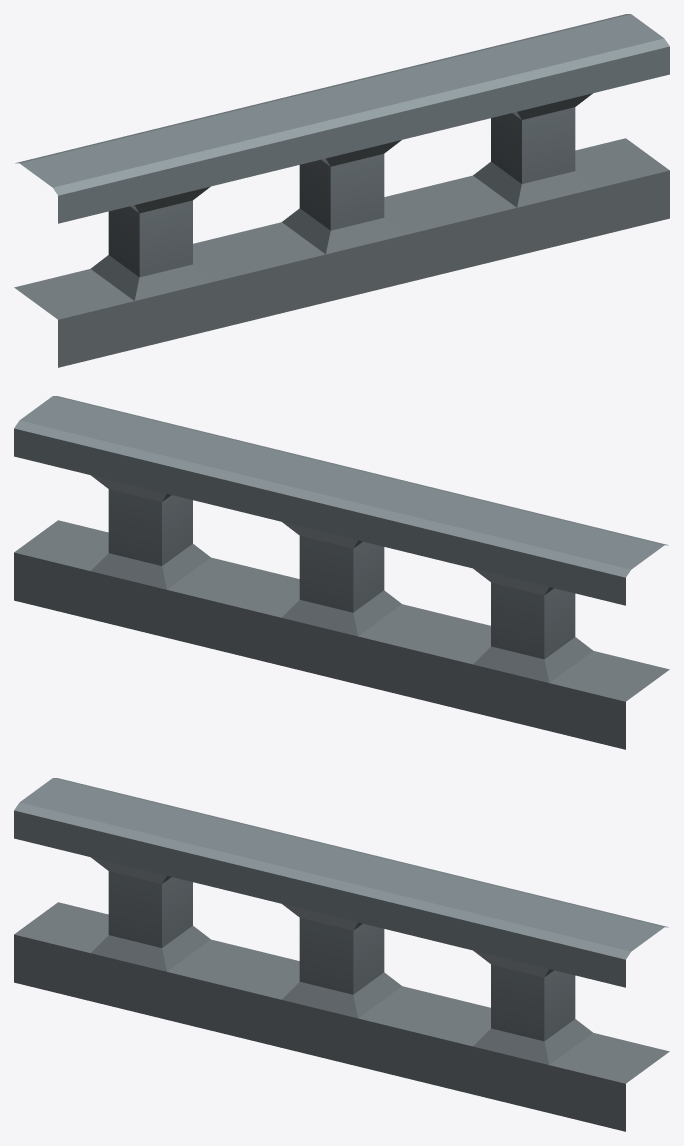
Rendered from barrier.glb.
3 renders of one model, top to bottom at view 1: azimuth 30°, elevation 25°; view 2: azimuth 150°, elevation 25°; view 3: azimuth 330°, elevation 25°, orthographic.
Visible parts, largest first — view 1: barrier; view 2: barrier; view 3: barrier.
Part boxes in pixels (box(x1,y1,x2,y2)): barrier: box(14, 14, 669, 367); barrier: box(14, 396, 669, 749); barrier: box(14, 778, 669, 1131).
Bounding box in the file's own units: 4 × 1.1 × 0.5.
Materials: 1 (1 with a texture image).
